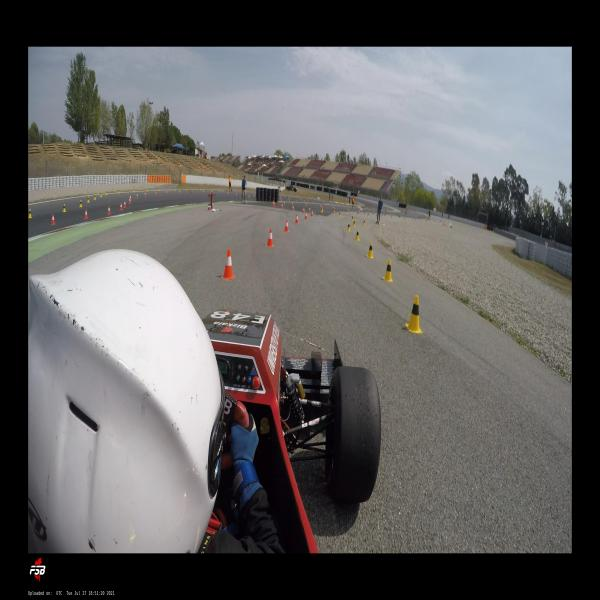orange_cone: (222, 250, 235, 280), (266, 229, 273, 247), (284, 219, 289, 232), (294, 214, 298, 224), (51, 214, 55, 224), (84, 209, 88, 219), (107, 205, 110, 215), (302, 207, 305, 213), (305, 212, 307, 220), (120, 202, 122, 210), (124, 200, 126, 208), (292, 204, 294, 210), (311, 210, 313, 216), (128, 198, 130, 204), (281, 203, 283, 209), (144, 192, 146, 197), (272, 200, 274, 205), (273, 202, 275, 207), (136, 194, 138, 198), (154, 192, 156, 196), (130, 196, 131, 201), (166, 190, 167, 194)
yellow_cone: (405, 295, 422, 333), (383, 259, 393, 282), (366, 241, 374, 259), (354, 229, 360, 241), (28, 208, 32, 219), (62, 204, 66, 212), (347, 222, 350, 231), (79, 200, 82, 208), (363, 219, 366, 226), (352, 220, 355, 227), (338, 211, 341, 217), (93, 194, 96, 200), (320, 207, 323, 213), (87, 196, 89, 203), (352, 216, 354, 222), (100, 192, 102, 197), (309, 205, 311, 210), (118, 189, 120, 193), (106, 190, 107, 195), (322, 206, 323, 211), (133, 188, 134, 192), (147, 188, 148, 192), (158, 186, 159, 190)
